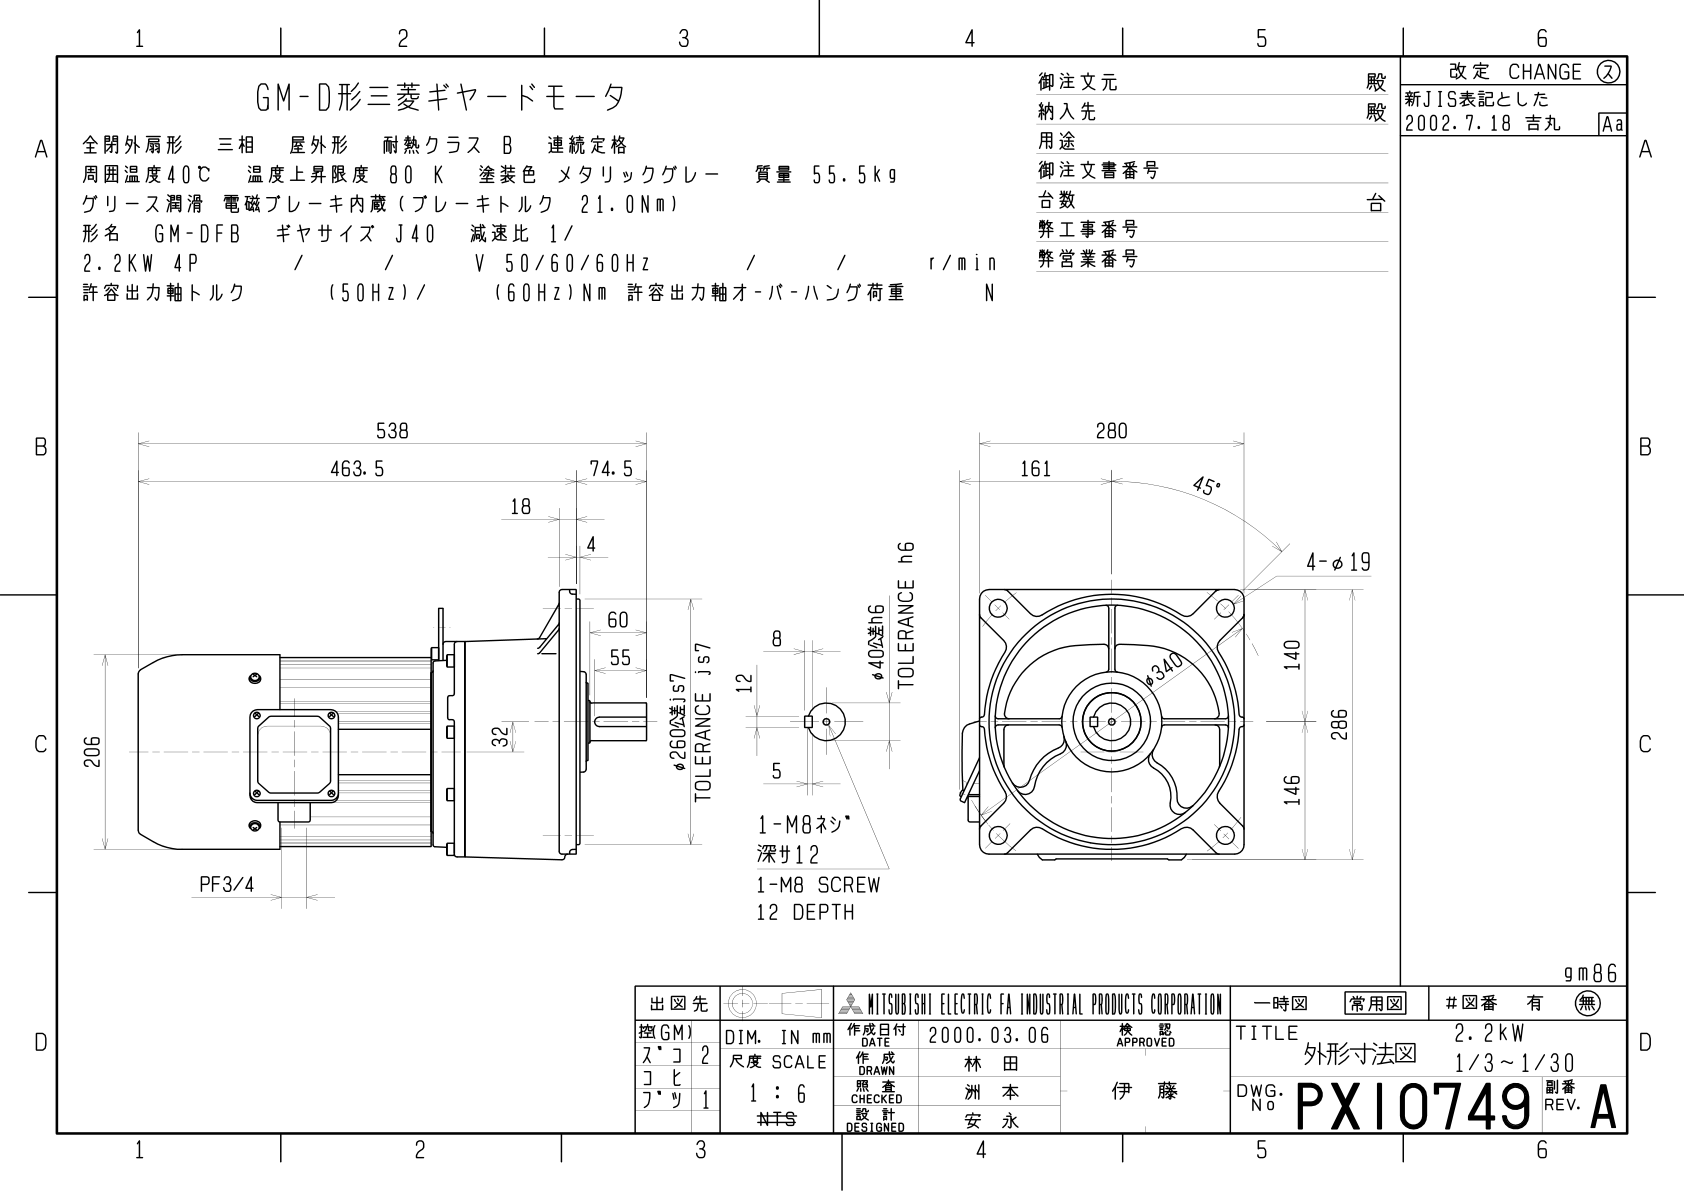GM_D_屋外＿三相_フランジ: (67, 371, 1389, 956)
